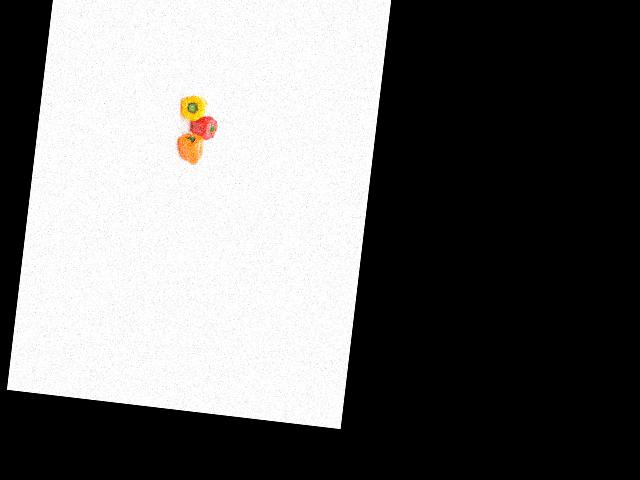bell_pepper: (178, 92, 209, 125)
